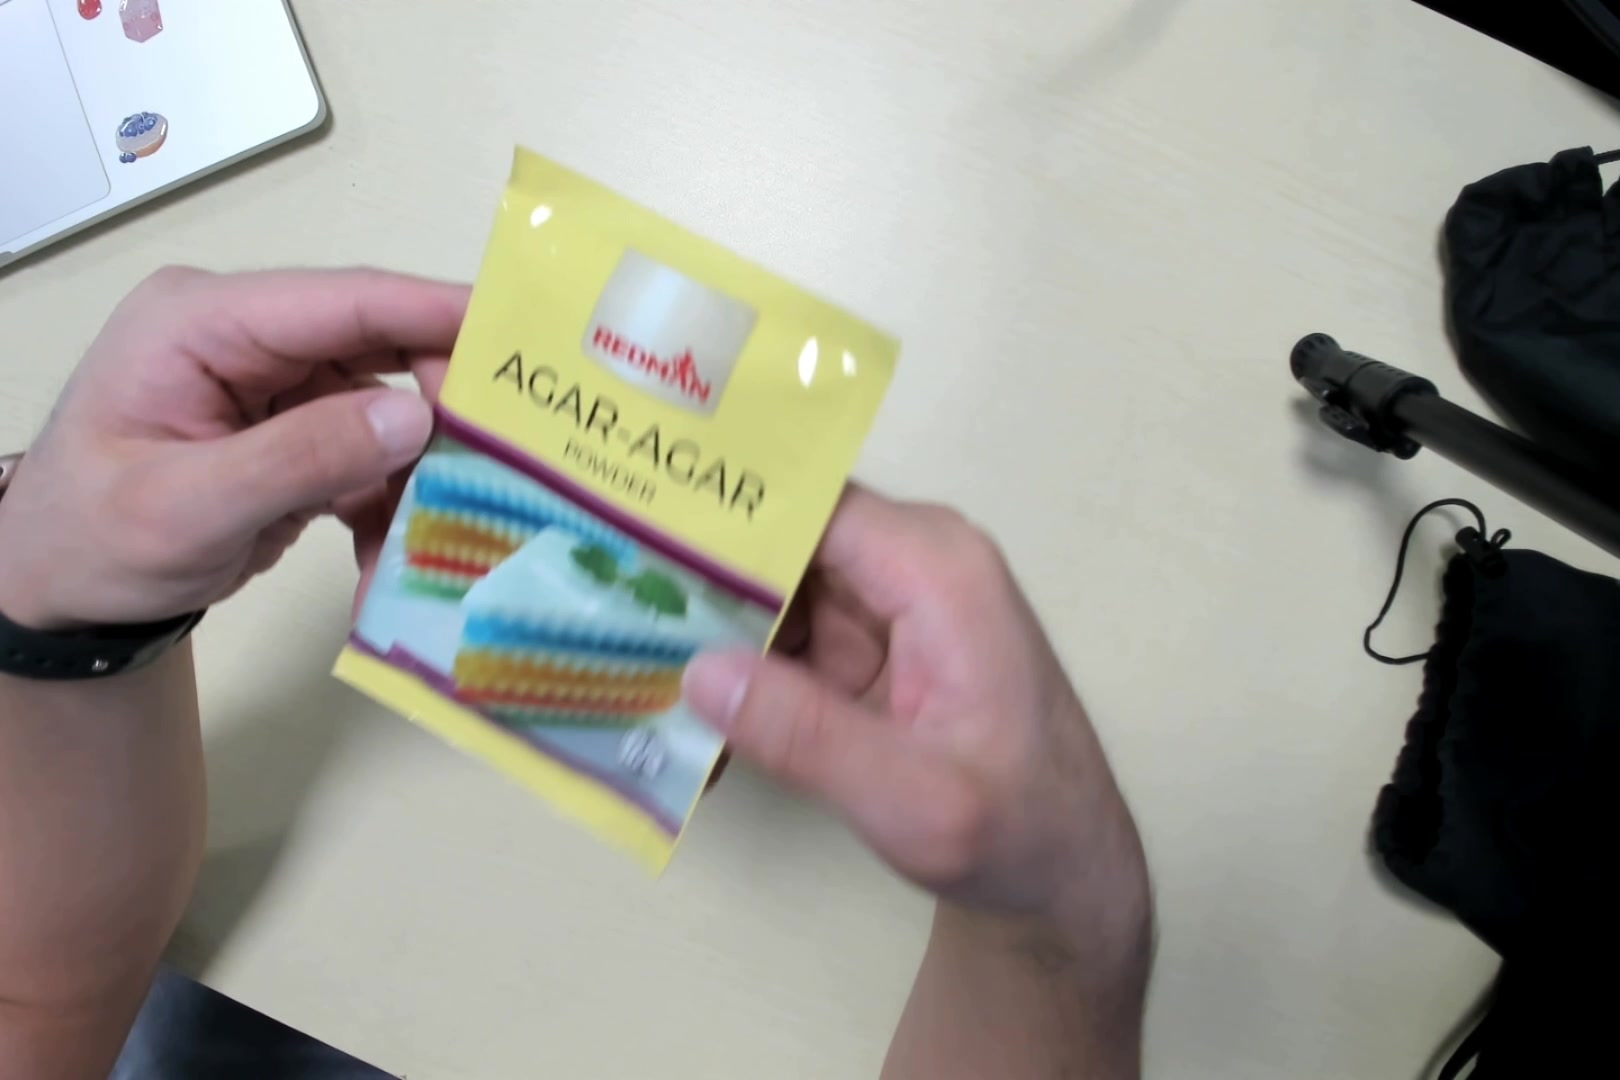OtherBakingNeeds_0-99g_Halal_NonHealthy: (366, 152, 890, 850)
